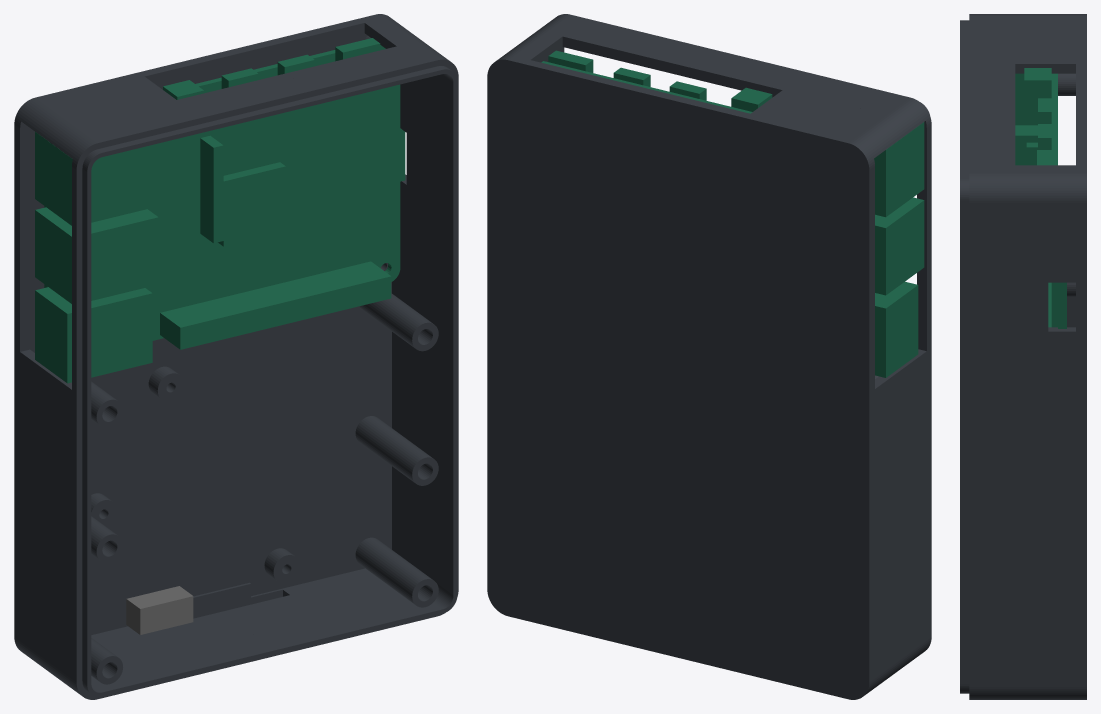
The model's file is step1.glb.
The picture shows the model from 3 angles, left to right: view 1: azimuth 30°, elevation 25°; view 2: azimuth 150°, elevation 25°; view 3: azimuth 270°, elevation 25°; orthographic projection. The views are drawn at different scales.
Parts seen in each view (by area): view 1: shell_lower, mock_pi4b, mock_switch; view 2: shell_lower, mock_pi4b; view 3: shell_lower, mock_pi4b.
Part boxes in pixels (left/top/right/bottom): shell_lower: left=14, top=14, right=458, bottom=699; mock_pi4b: left=35, top=38, right=405, bottom=383; mock_switch: left=126, top=586, right=193, bottom=634; shell_lower: left=487, top=14, right=931, bottom=699; mock_pi4b: left=541, top=50, right=924, bottom=377; shell_lower: left=960, top=14, right=1086, bottom=699; mock_pi4b: left=1015, top=68, right=1066, bottom=328.
Size of the model in its own units: 92 by 128 by 28.
